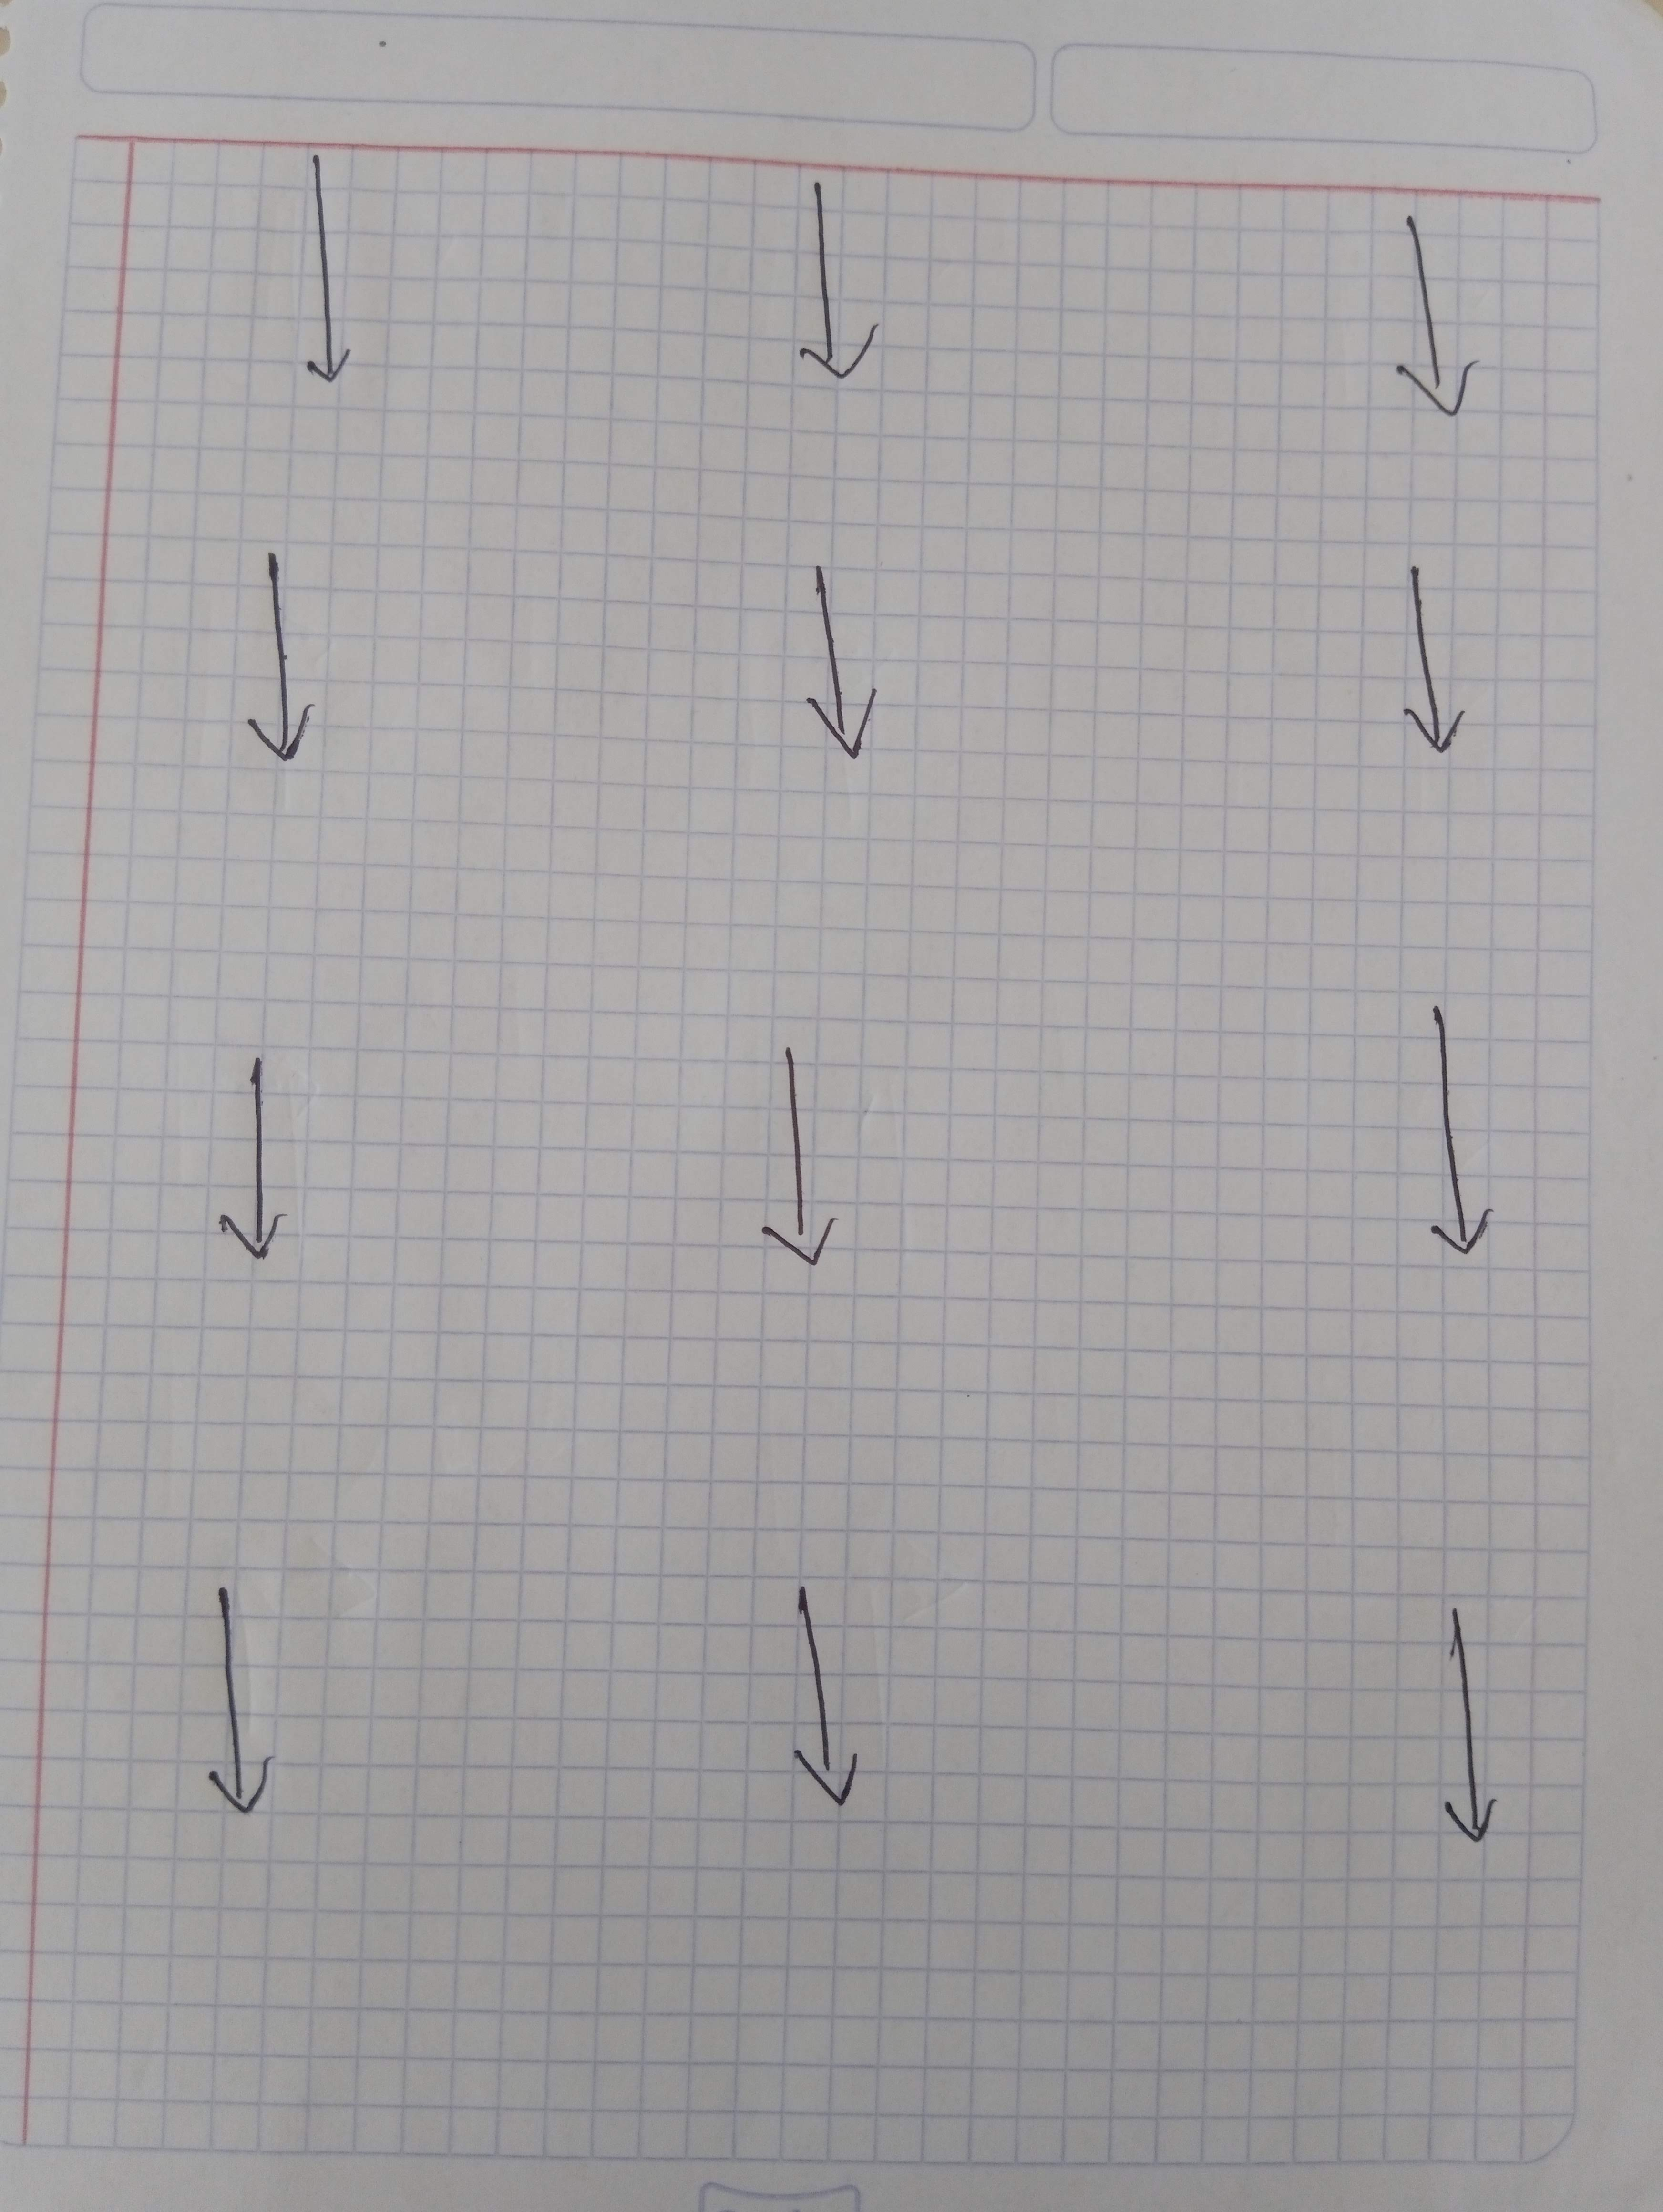arrow_line_down: (1364, 182, 1504, 431), (753, 1571, 887, 1821), (767, 559, 910, 775), (1410, 1004, 1520, 1274), (741, 1035, 859, 1281), (190, 1578, 309, 1817), (1377, 552, 1508, 768), (196, 1048, 316, 1274), (227, 538, 334, 787), (793, 175, 914, 395), (1413, 1597, 1520, 1844), (293, 141, 379, 402)
